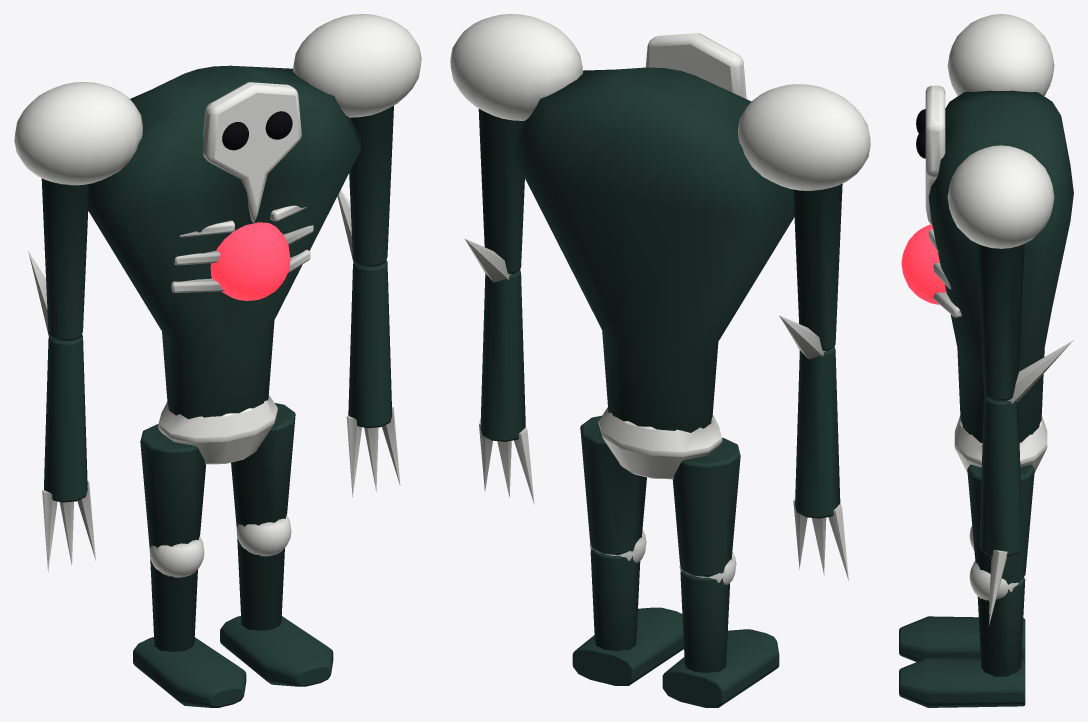
The model's file is alien_stalker.glb.
3 views of the same model, side by side, from view 1: azimuth 30°, elevation 25°; view 2: azimuth 150°, elevation 25°; view 3: azimuth 270°, elevation 25° (orthographic). The views are drawn at different scales.
Visible parts, largest first — view 1: torso, pauldron, pauldron.001, mask, upper, forearm, forearm.001, thigh, upper.001, foot.001, foot, thigh.001 (+8 smaller); view 2: torso, pauldron, pauldron.001, thigh, forearm.001, forearm, upper, thigh.001, upper.001, foot, foot.001, pelvis (+5 smaller); view 3: torso, pauldron.001, pauldron, upper.001, forearm.001, foot.001, shin.001, foot, thigh.001, core, mask, pelvis (+4 smaller).
Boxes of the visible parts, x1=… form: torso: x1=88, y1=65, x2=360, y2=419; pauldron: x1=14, y1=82, x2=142, y2=185; pauldron.001: x1=293, y1=14, x2=421, y2=117; mask: x1=202, y1=82, x2=301, y2=222; upper: x1=41, y1=178, x2=89, y2=340; forearm: x1=44, y1=334, x2=87, y2=502; forearm.001: x1=348, y1=260, x2=391, y2=428; thigh: x1=140, y1=424, x2=205, y2=549; upper.001: x1=349, y1=105, x2=393, y2=266; foot.001: x1=220, y1=616, x2=333, y2=686; foot: x1=133, y1=637, x2=246, y2=707; thigh.001: x1=231, y1=403, x2=295, y2=527; torso: x1=512, y1=67, x2=794, y2=432; pauldron: x1=738, y1=84, x2=870, y2=190; pauldron.001: x1=450, y1=14, x2=582, y2=120; thigh: x1=672, y1=437, x2=740, y2=576; forearm.001: x1=480, y1=269, x2=525, y2=441; forearm: x1=795, y1=346, x2=840, y2=518; upper: x1=793, y1=183, x2=842, y2=350; thigh.001: x1=580, y1=415, x2=646, y2=554; upper.001: x1=478, y1=109, x2=524, y2=274; foot: x1=662, y1=629, x2=779, y2=707; foot.001: x1=572, y1=607, x2=683, y2=685; pelvis: x1=598, y1=407, x2=722, y2=479; torso: x1=928, y1=90, x2=1073, y2=442; pauldron.001: x1=947, y1=145, x2=1054, y2=248; pauldron: x1=947, y1=14, x2=1054, y2=95; upper.001: x1=977, y1=243, x2=1024, y2=400; forearm.001: x1=979, y1=395, x2=1022, y2=556; foot.001: x1=899, y1=657, x2=1025, y2=707; shin.001: x1=977, y1=577, x2=1025, y2=676; foot: x1=899, y1=616, x2=1025, y2=661; thigh.001: x1=967, y1=464, x2=1034, y2=584; core: x1=901, y1=224, x2=946, y2=304; mask: x1=925, y1=85, x2=945, y2=225; pelvis: x1=954, y1=415, x2=1047, y2=472.
Size of the model in its own units: 1.82 by 2.68 by 0.72.
